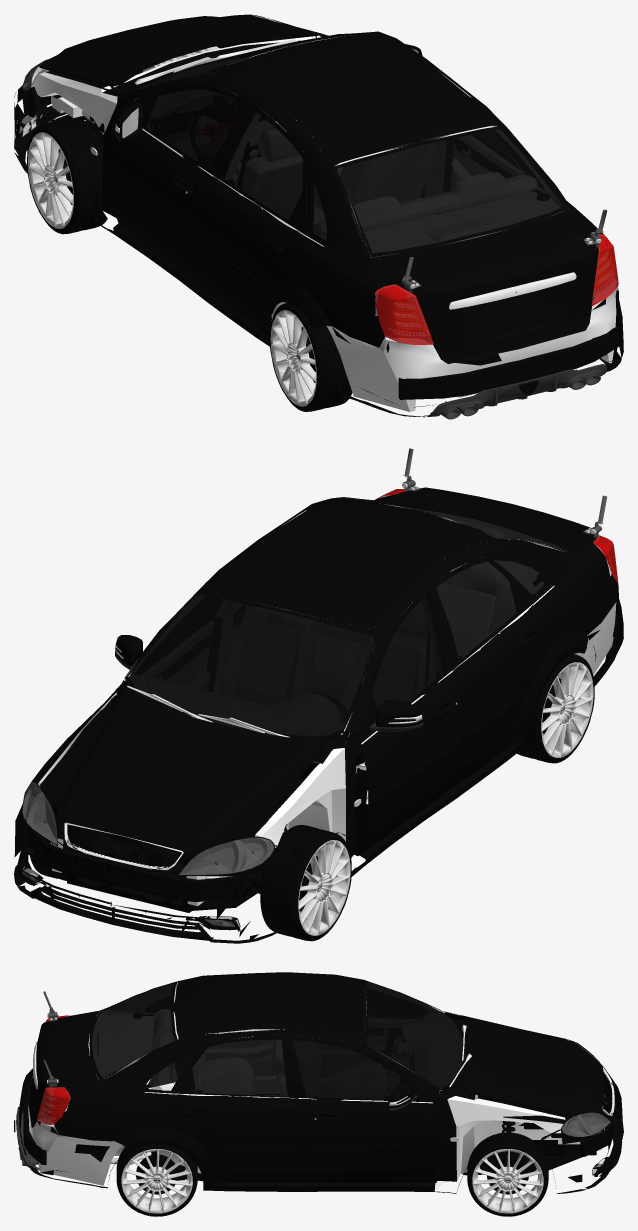
Rendered from gentra.glb.
3 views of the same model, one above another, from view 1: azimuth 30°, elevation 25°; view 2: azimuth 150°, elevation 25°; view 3: azimuth 270°, elevation 25° (orthographic). The views are drawn at different scales.
Visible parts, largest first — view 1: chassis, boot, chassis.001, door_lf_ok, door_lr_ok, kapot, unnamed.003, bumper_r, unnamed.002, st, chassis.003, Fara (+1 smaller); view 2: chassis, kapot, chassis.003, door_lf_ok, door_lr_ok, unnamed.003, bumper_r, boot, unnamed.002, st.002, chassis.001, bumper_f (+2 smaller); view 3: chassis, door_rf_ok, door_rr_ok, kapot, chassis.003, chassis.001, unnamed, boot, unnamed.001, bumper_r, st.002, st (+1 smaller).
Boxes of the visible parts, x1,y1,x2,y2 form: chassis: (22,14,619,411); boot: (371,209,607,359); chassis.001: (305,126,568,257); door_lf_ok: (103,84,253,290); door_lr_ok: (196,104,304,329); kapot: (40,14,322,90); unnamed.003: (27,118,107,234); bumper_r: (14,17,623,419); unnamed.002: (269,302,352,411); st: (375,234,618,344); chassis.003: (129,32,368,91); Fara: (375,236,610,337); chassis: (22,494,619,912); kapot: (39,691,321,852); chassis.003: (127,592,375,736); door_lf_ok: (359,586,462,854); door_lr_ok: (429,556,551,787); unnamed.003: (260,825,351,941); bumper_r: (14,584,623,943); boot: (378,448,606,552); unnamed.002: (517,654,594,763); st.002: (18,781,274,929); chassis.001: (336,497,567,599); bumper_f: (33,885,213,940); chassis: (23,972,615,1191); door_rf_ok: (286,1035,439,1182); door_rr_ok: (172,1035,304,1182); kapot: (459,1015,603,1115); chassis.003: (363,981,465,1086); chassis.001: (89,982,201,1088); unnamed: (467,1132,548,1216); boot: (30,991,98,1125); unnamed.001: (116,1144,197,1216); bumper_r: (14,1012,623,1193); st.002: (561,1041,611,1173); st: (37,1015,70,1124).
Bounding box in the file's own units: 1.99 × 1.48 × 4.74.
